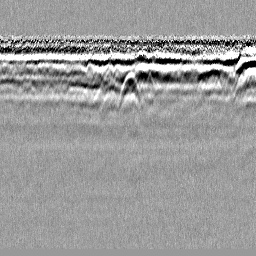cavity: (117, 72, 141, 113)
